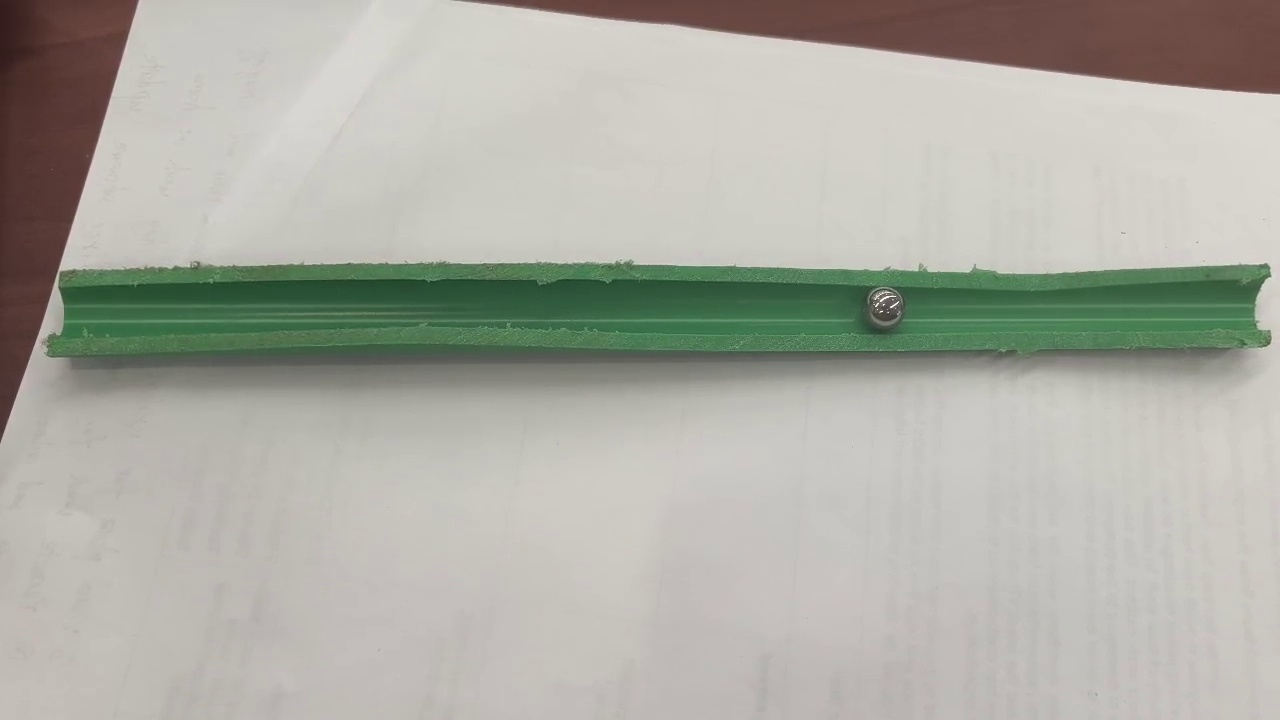ball: (868, 288, 904, 328)
